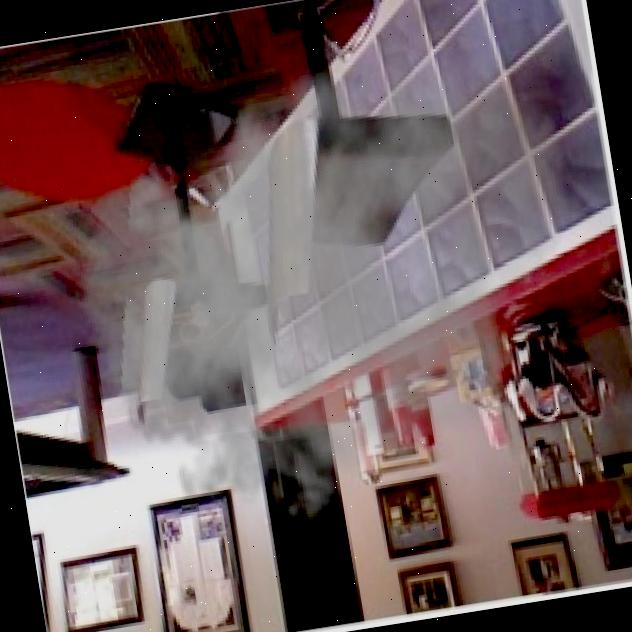smoke: (30, 0, 621, 573)
